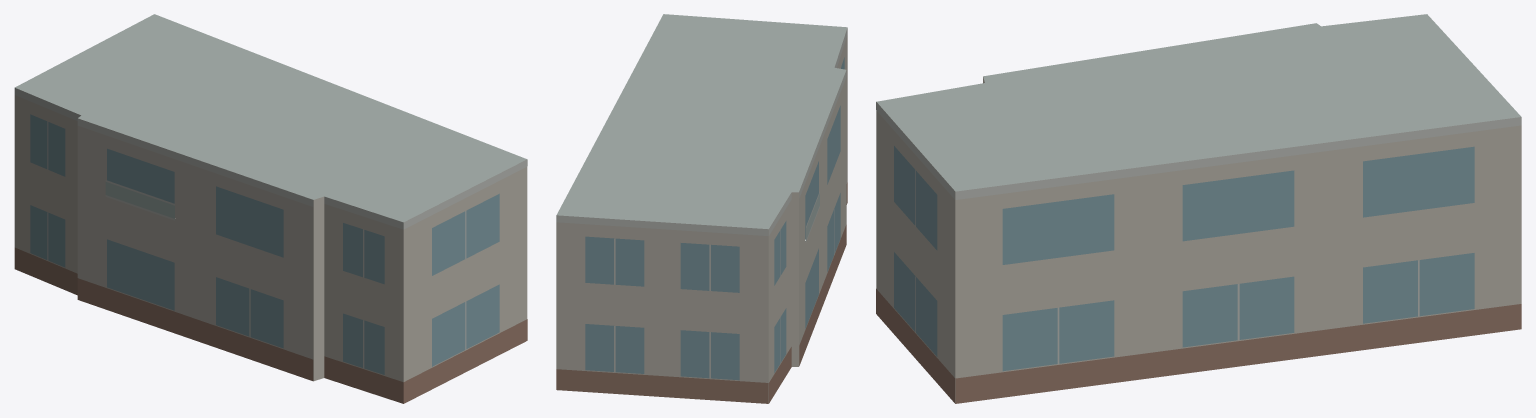
The model's file is survey-upis-32646701.glb.
3 views of the same model, side by side, from view 1: azimuth 30°, elevation 25°; view 2: azimuth 150°, elevation 25°; view 3: azimuth 270°, elevation 25° (orthographic). The views are drawn at different scales.
Parts seen in each view (by area): view 1: survey-upis-32646701.tmp; view 2: survey-upis-32646701.tmp; view 3: survey-upis-32646701.tmp.
Part boxes in pixels (x1,y1,x2,y2): survey-upis-32646701.tmp: (14,14,527,403); survey-upis-32646701.tmp: (556,14,847,403); survey-upis-32646701.tmp: (876,14,1521,403).
Bounding box in the file's own units: 10.96 × 6.1 × 16.82.
